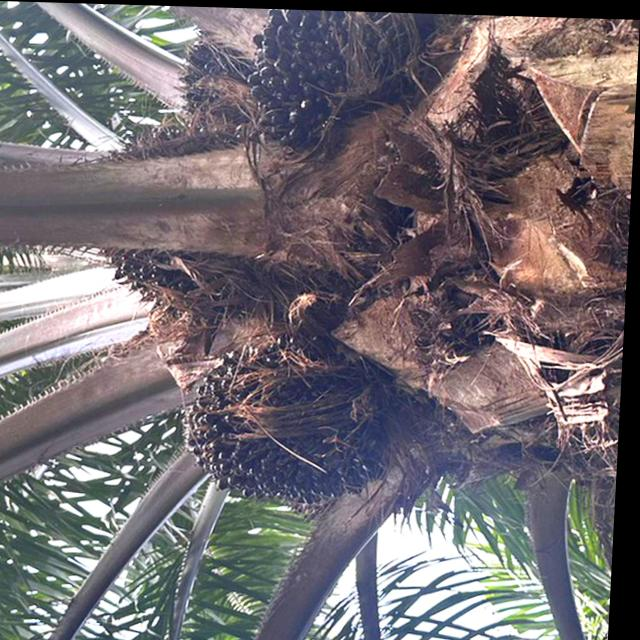almost: (177, 331, 396, 509), (234, 6, 431, 151), (69, 167, 246, 305), (160, 31, 250, 140)
